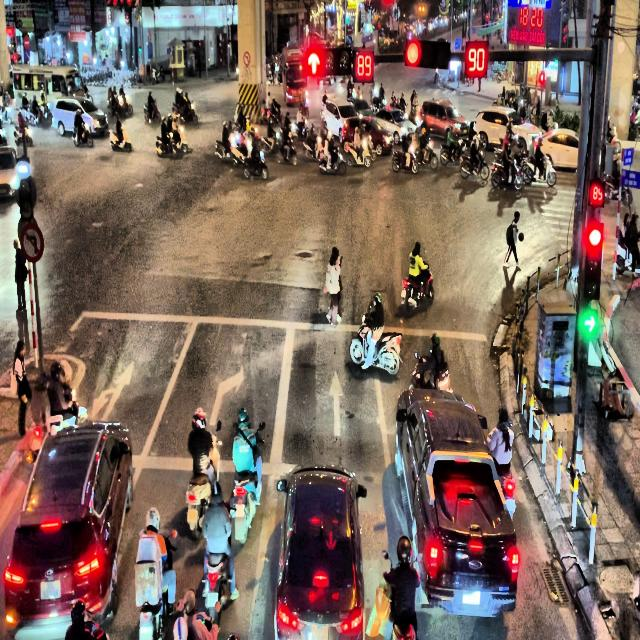lisence_plate: (39, 577, 62, 601), (310, 622, 330, 639), (204, 589, 220, 608), (462, 590, 481, 604)
